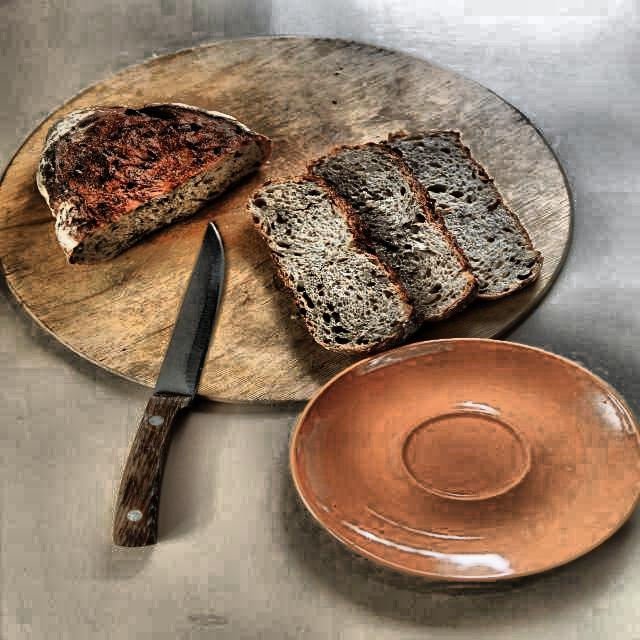knife: (104, 222, 234, 550)
